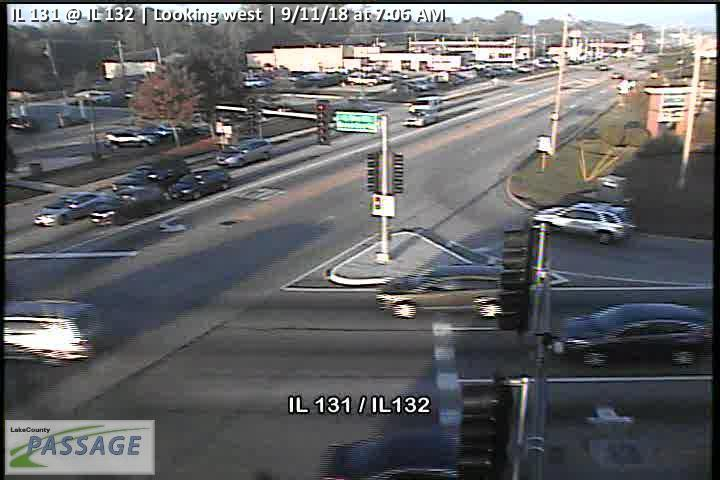SUV: (373, 266, 516, 320), (2, 299, 104, 369), (529, 202, 637, 245), (215, 138, 272, 168), (102, 129, 160, 150), (407, 95, 441, 114)
Sedan: (545, 303, 711, 369), (319, 430, 495, 480), (31, 190, 98, 227), (166, 170, 230, 201), (400, 112, 436, 127)
